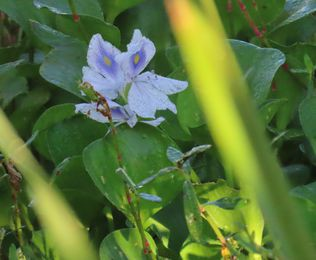water_hyacinth: (13, 14, 284, 259)
